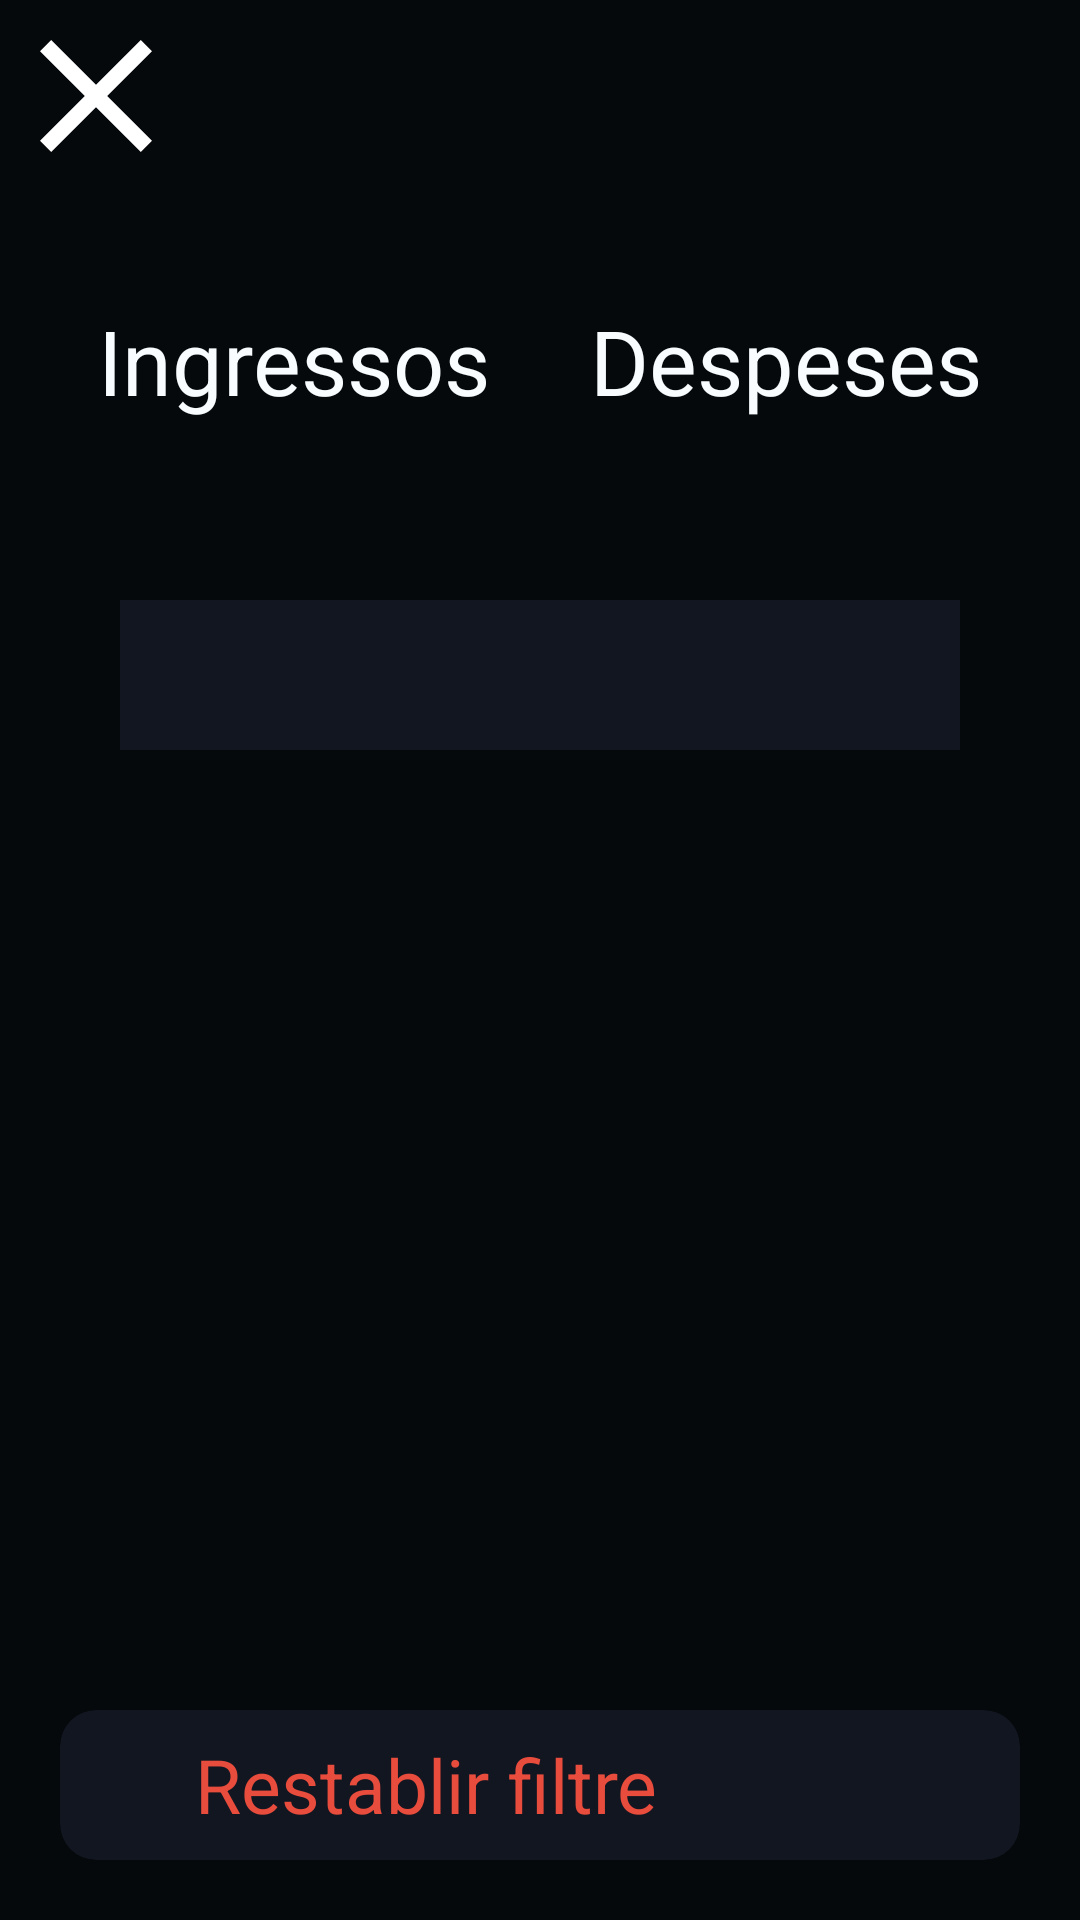

Screen size 1080px×1920px. Icon name, then its center in pixels as point (x, y):
close: point (96, 96)
